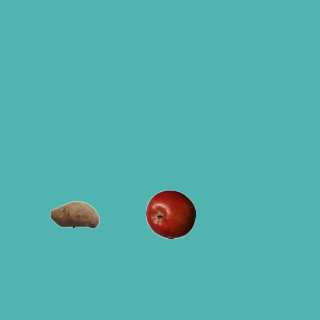Apple Braeburn: (145, 189, 195, 239)
Potato Sweet: (49, 189, 99, 239)
